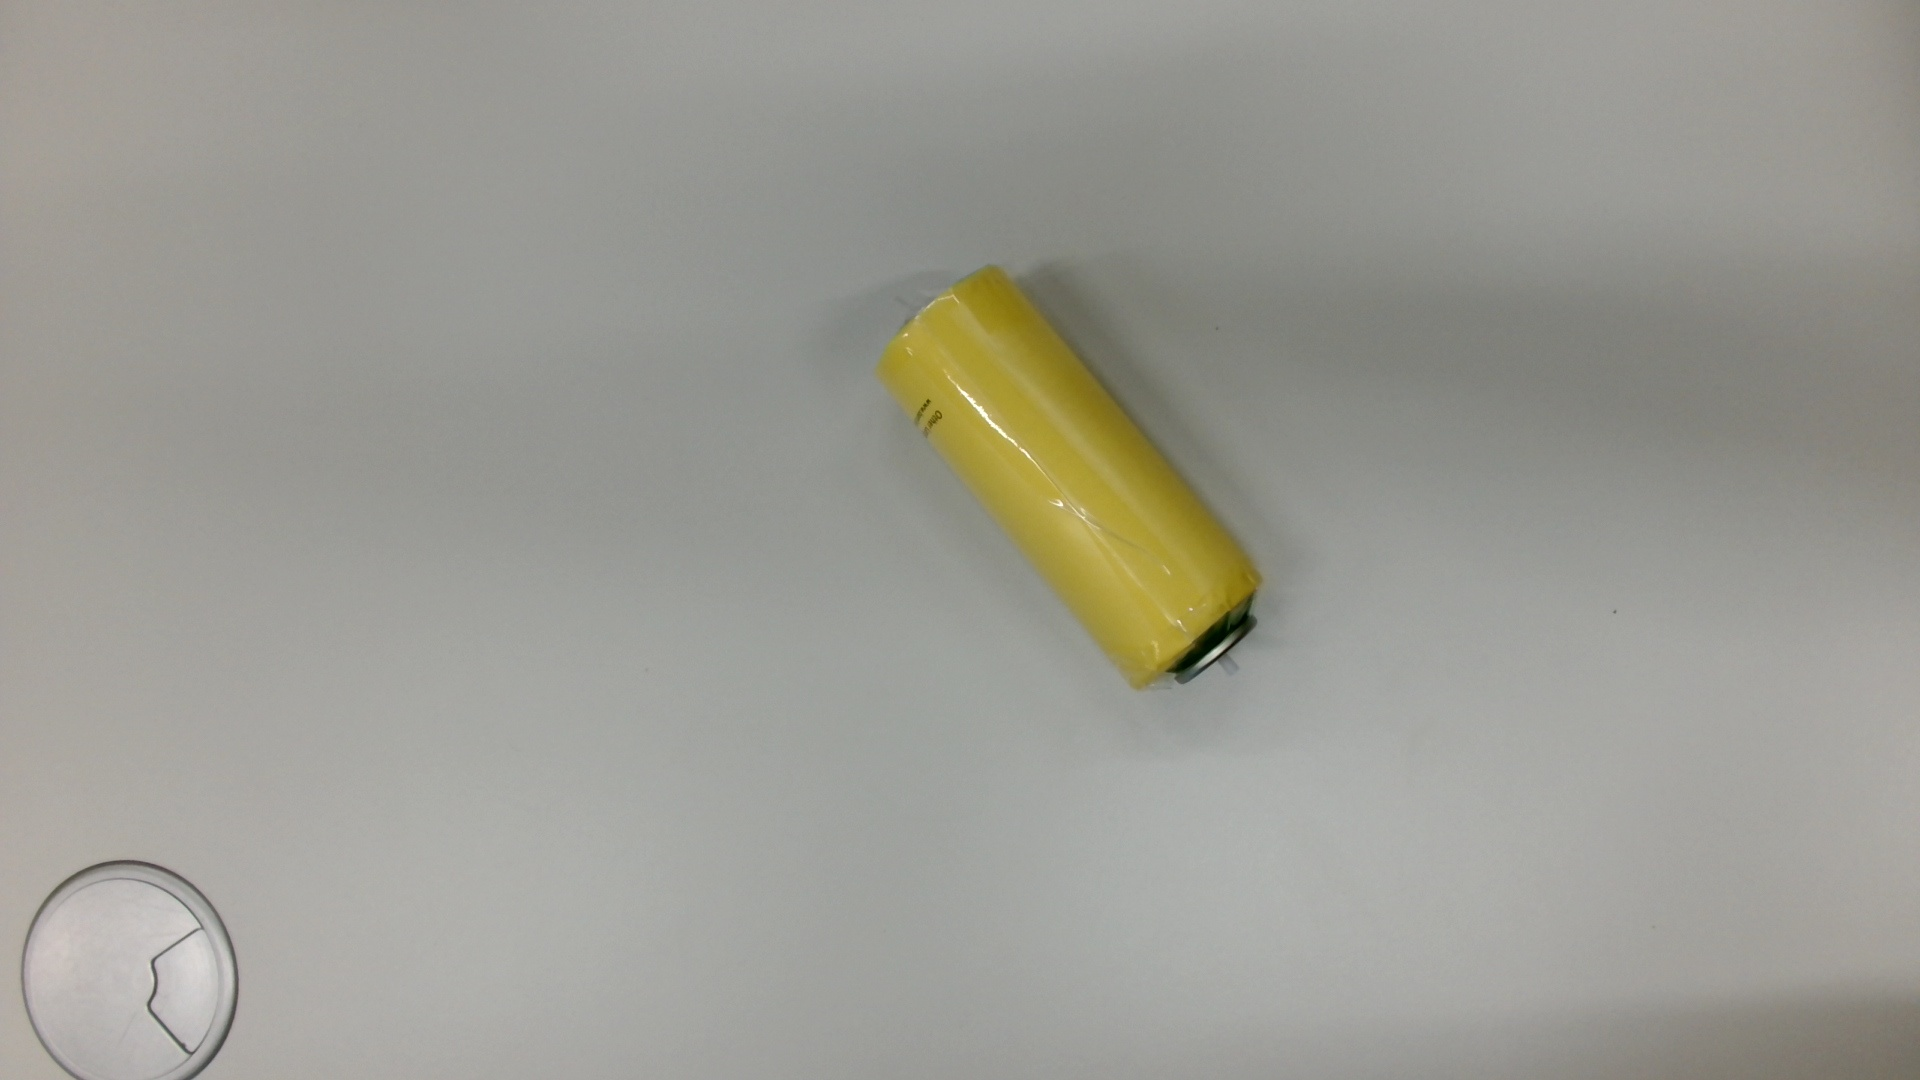Cylinder: (862, 256, 1282, 719)
